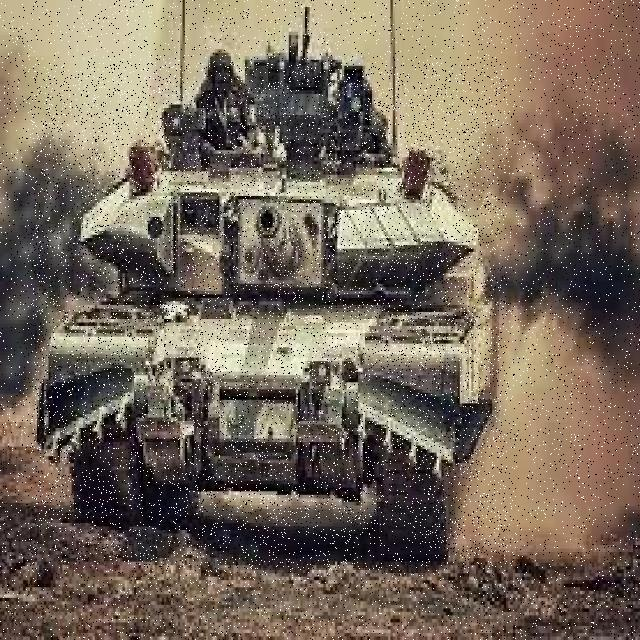MIL_MBT: (32, 63, 507, 569)
